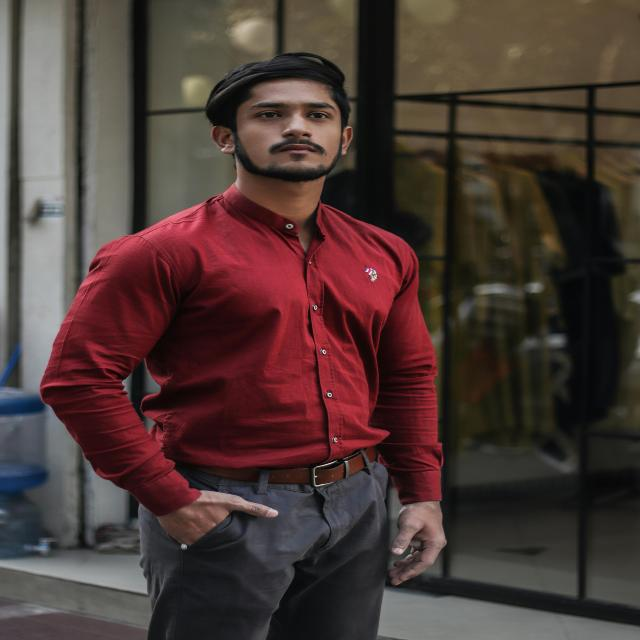human: (32, 50, 461, 640)
